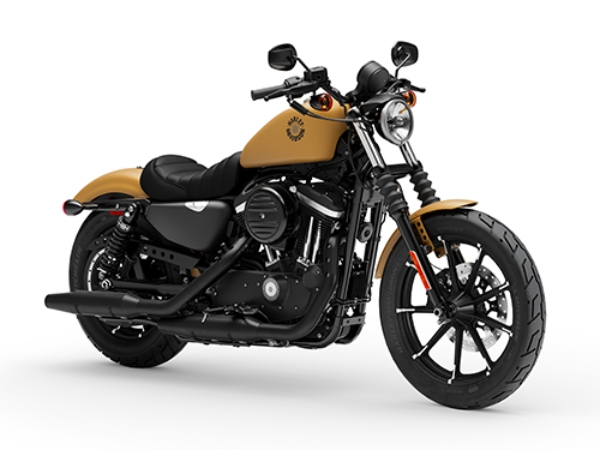motorcycle: (62, 72, 545, 411)
